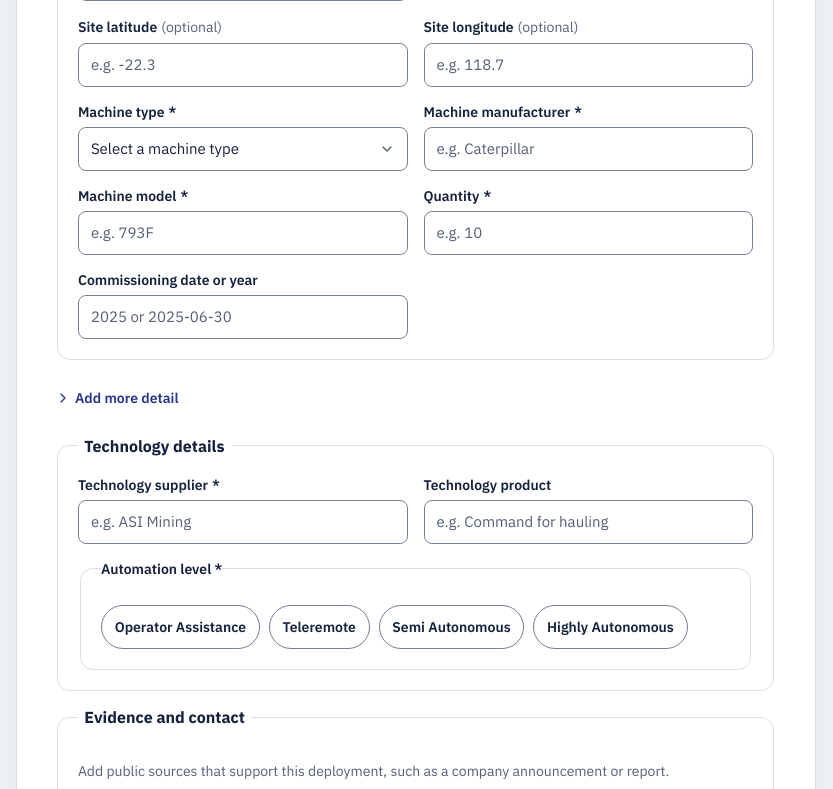
Test: ContributePage › keeps optional details behind the add-more-detail toggle
The image size is (833, 789).
(page scrolled)
Expected: the field labelled "machine model variant" is not shown
Click the button "Add more detail".
click(117, 398)  # box [47,376,186,420]
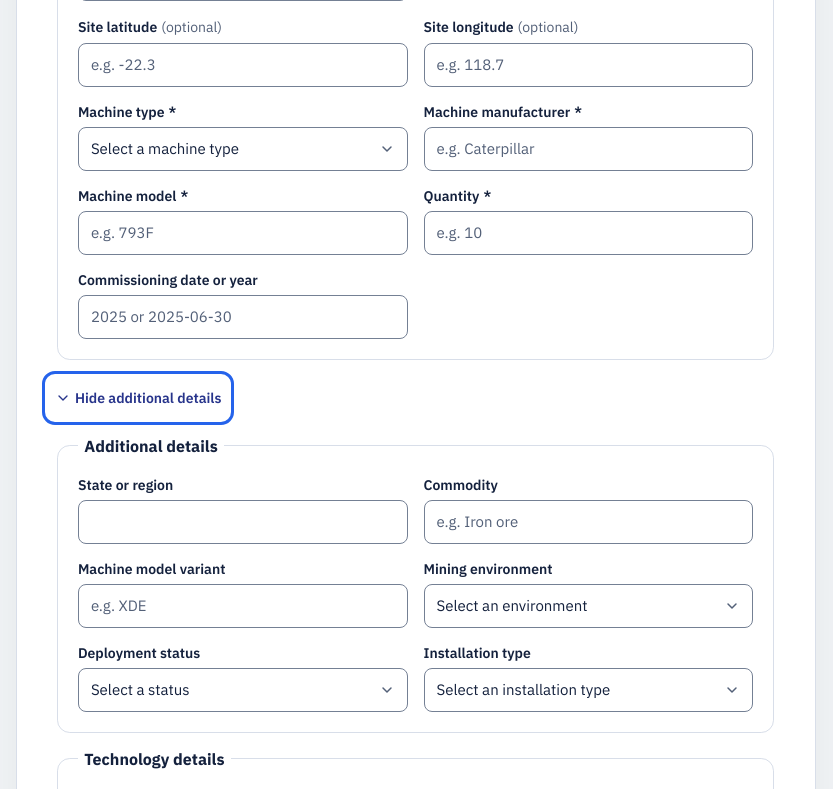
Result: the field labelled "Machine model variant" is shown at [78,584,408,628]
Result: the button "Hide additional details" is expanded at [47,376,230,420]
